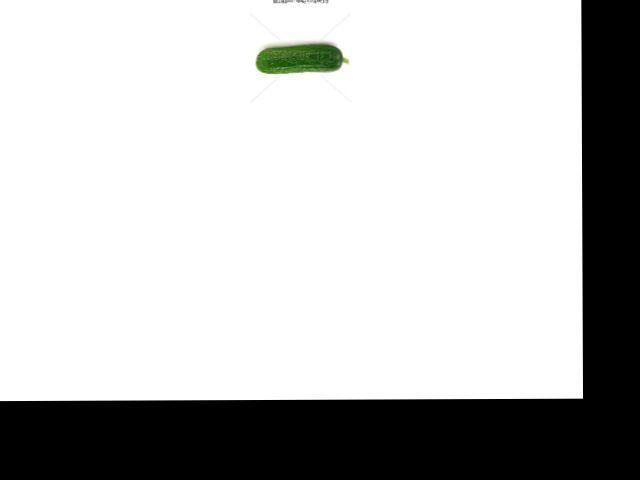cucumber: (254, 44, 348, 73)
